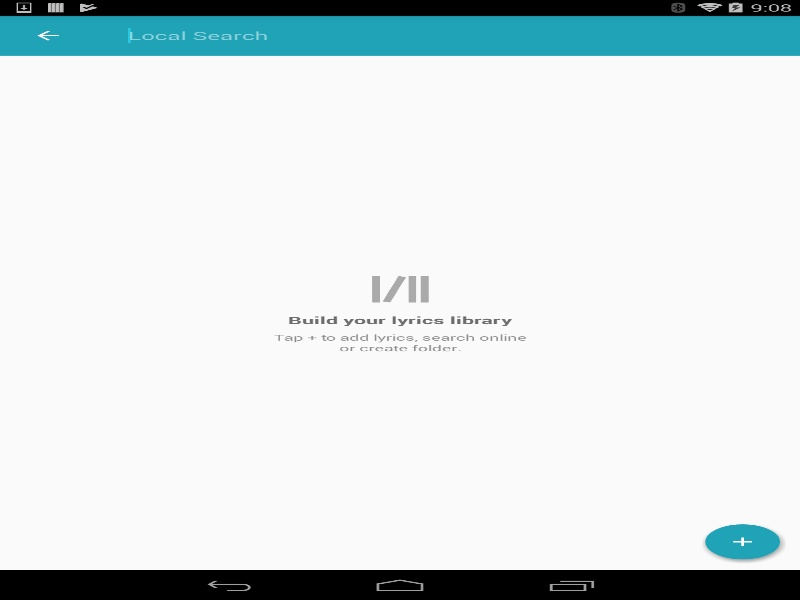Button: (698, 520, 786, 563), (10, 15, 85, 55)
Input: (117, 24, 522, 46)
